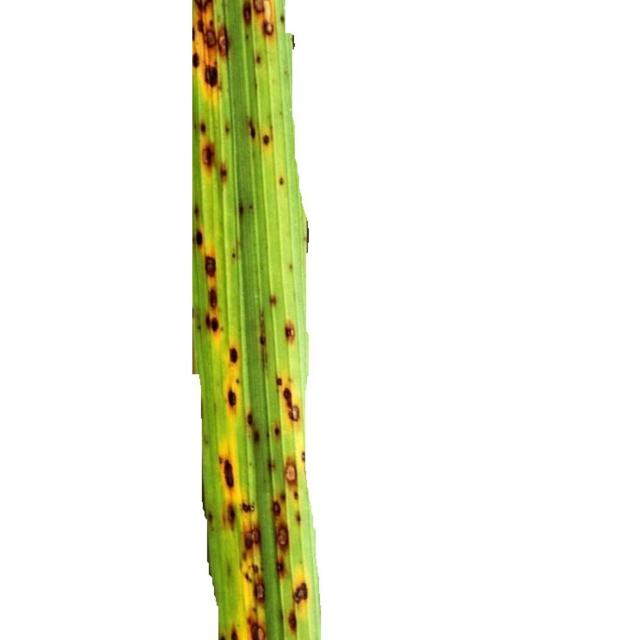Brown spot: (146, 0, 352, 640)
